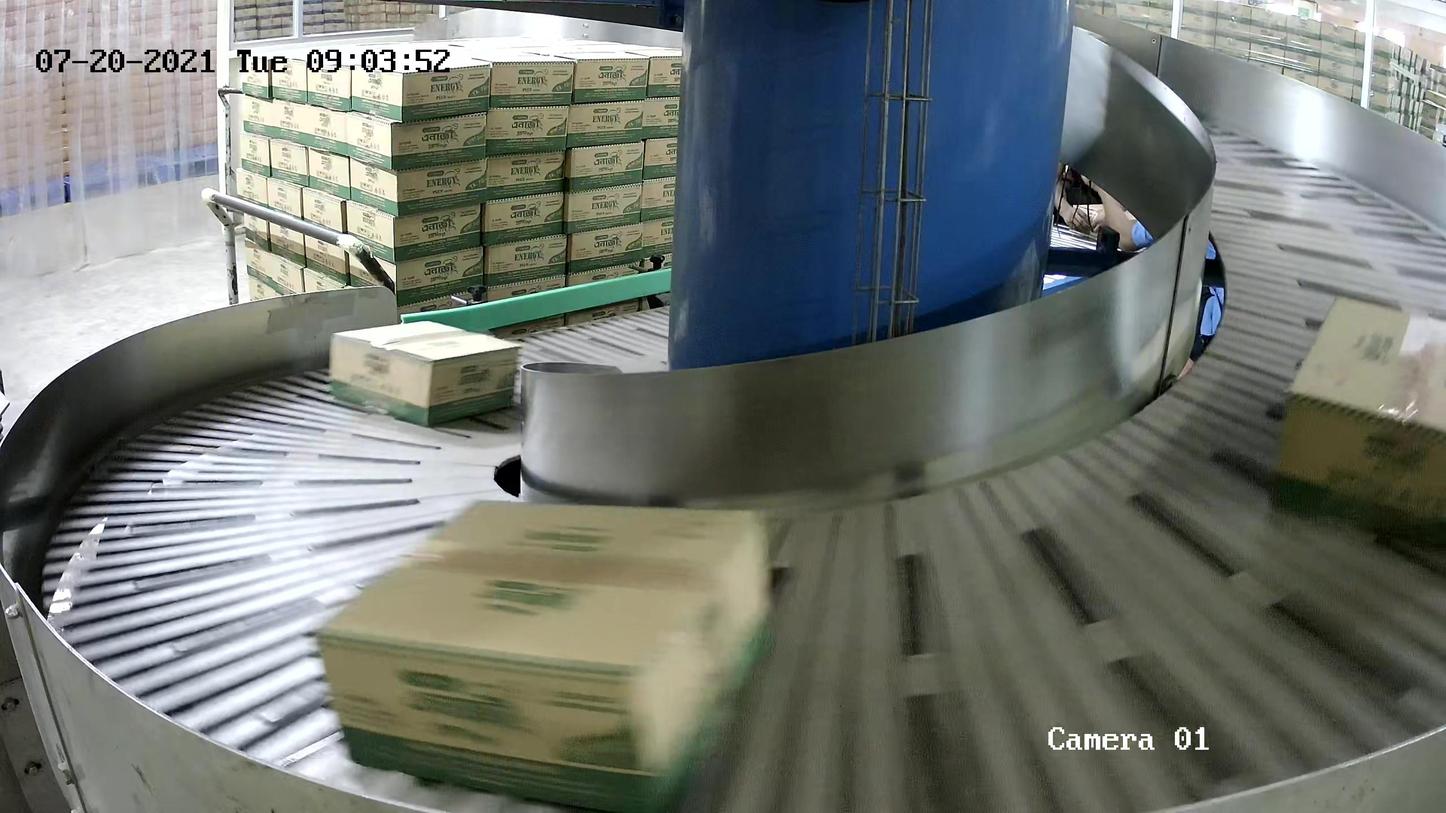Box: (310, 489, 790, 813), (1266, 286, 1446, 543), (328, 318, 523, 428)
